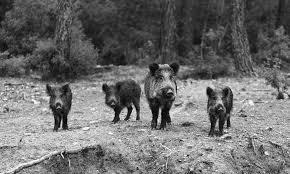wildboar: (144, 60, 182, 132), (100, 77, 143, 126), (205, 84, 235, 140), (44, 79, 75, 133)
